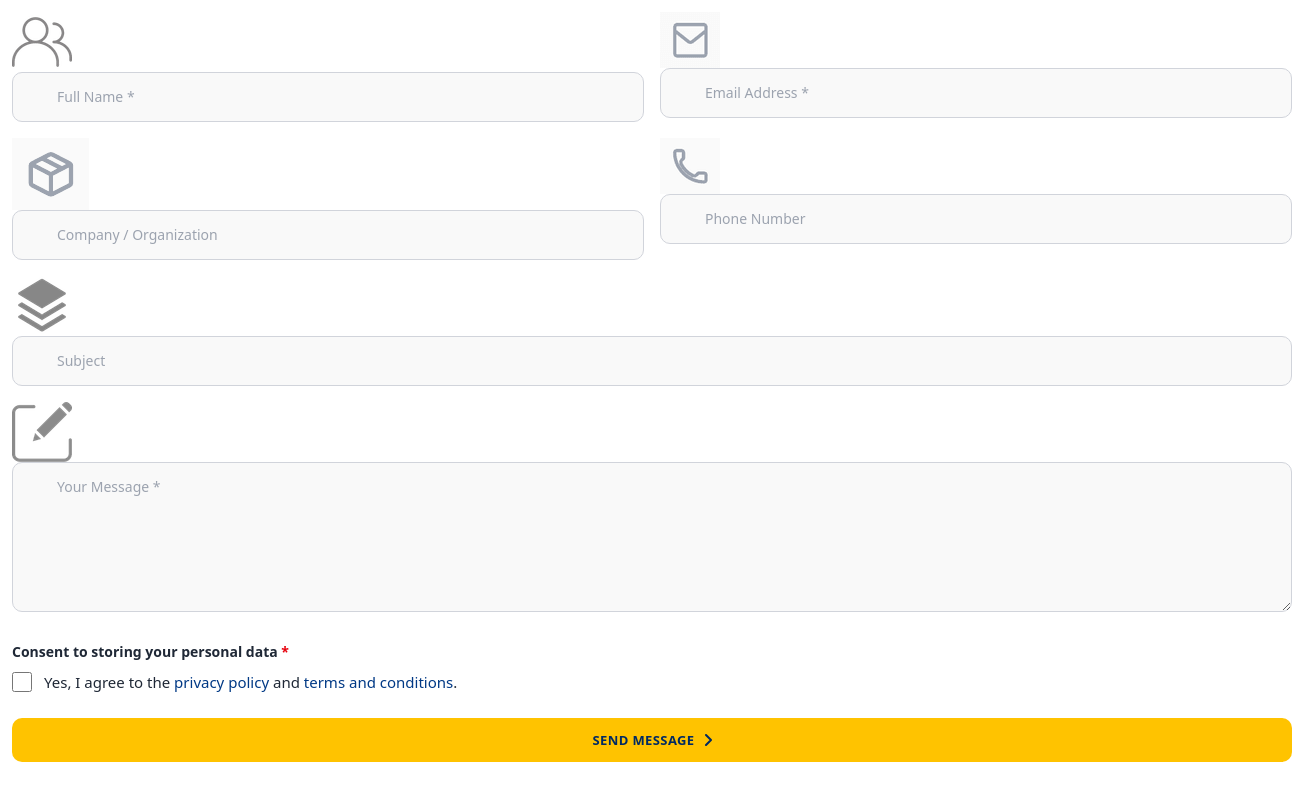
Test: ContactForm — client validation › rejects a malformed address with a different message than a missing one
This screenshot has width=1304, height=812.
Step 1. Type "Somchai Jaidee" into the field labelled "Full Name" → [328, 97], box [12,72,644,122]
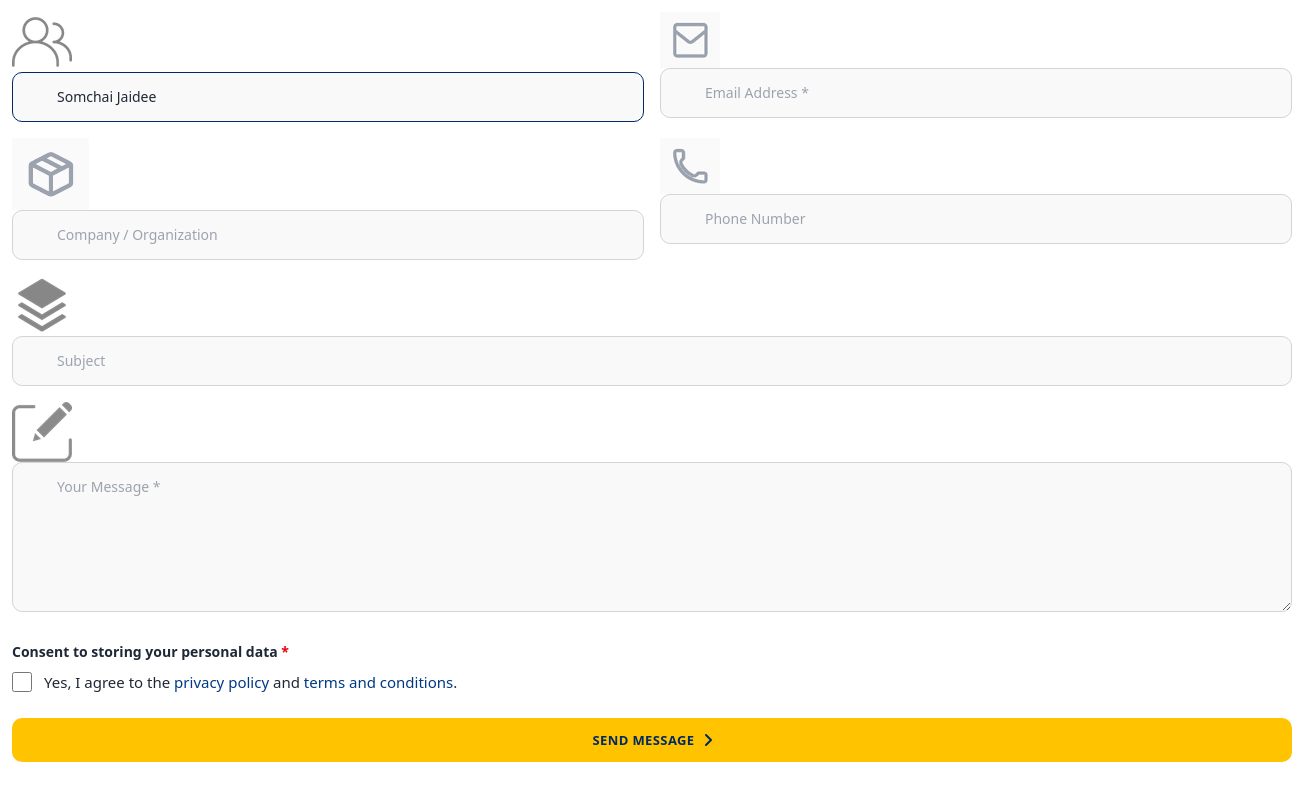
Step 2. Type "not-an-email" into the field labelled "Email Address" → [976, 93], box [660,68,1292,118]
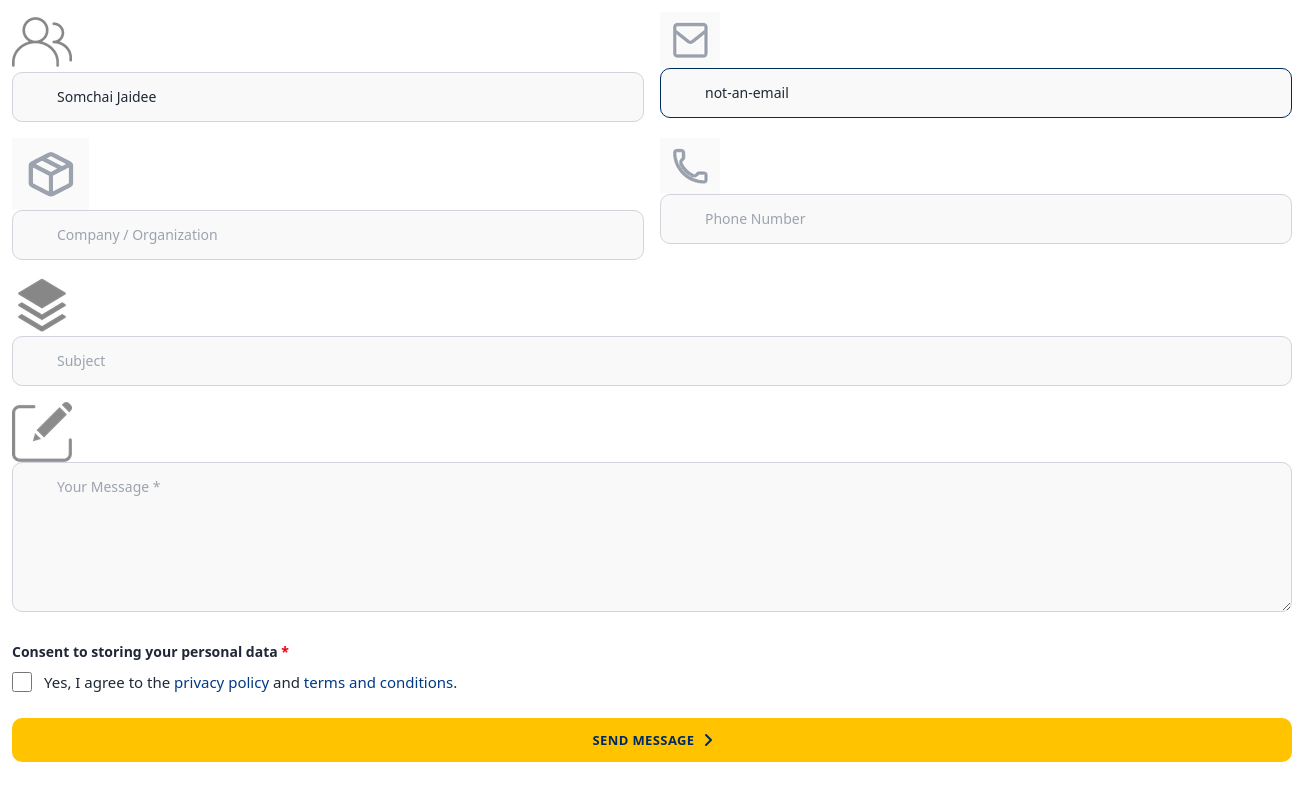
Step 3. Type "We would like a quote." into the text box labelled "Your Message" → [652, 537], box [12,462,1292,612]
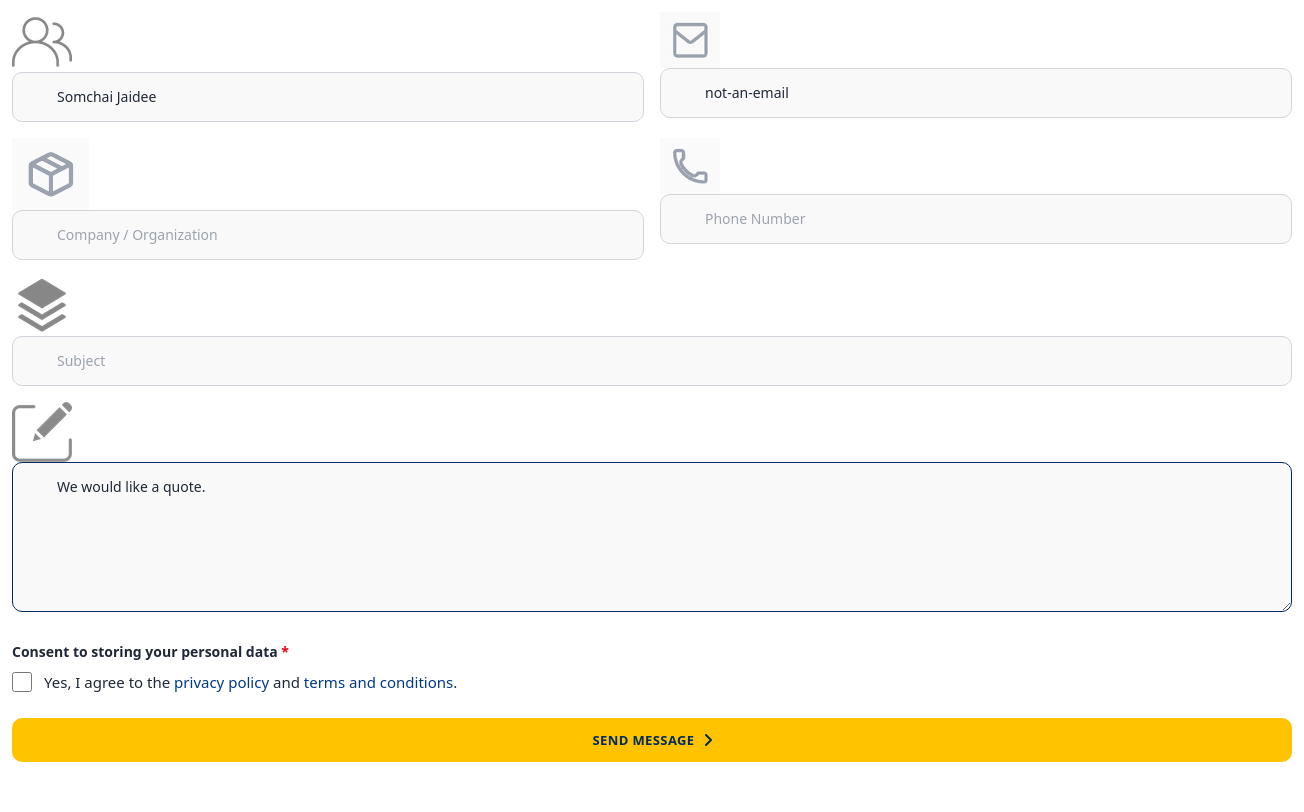
Step 4. Click the checkbox → [22, 682], box [12,672,32,692]
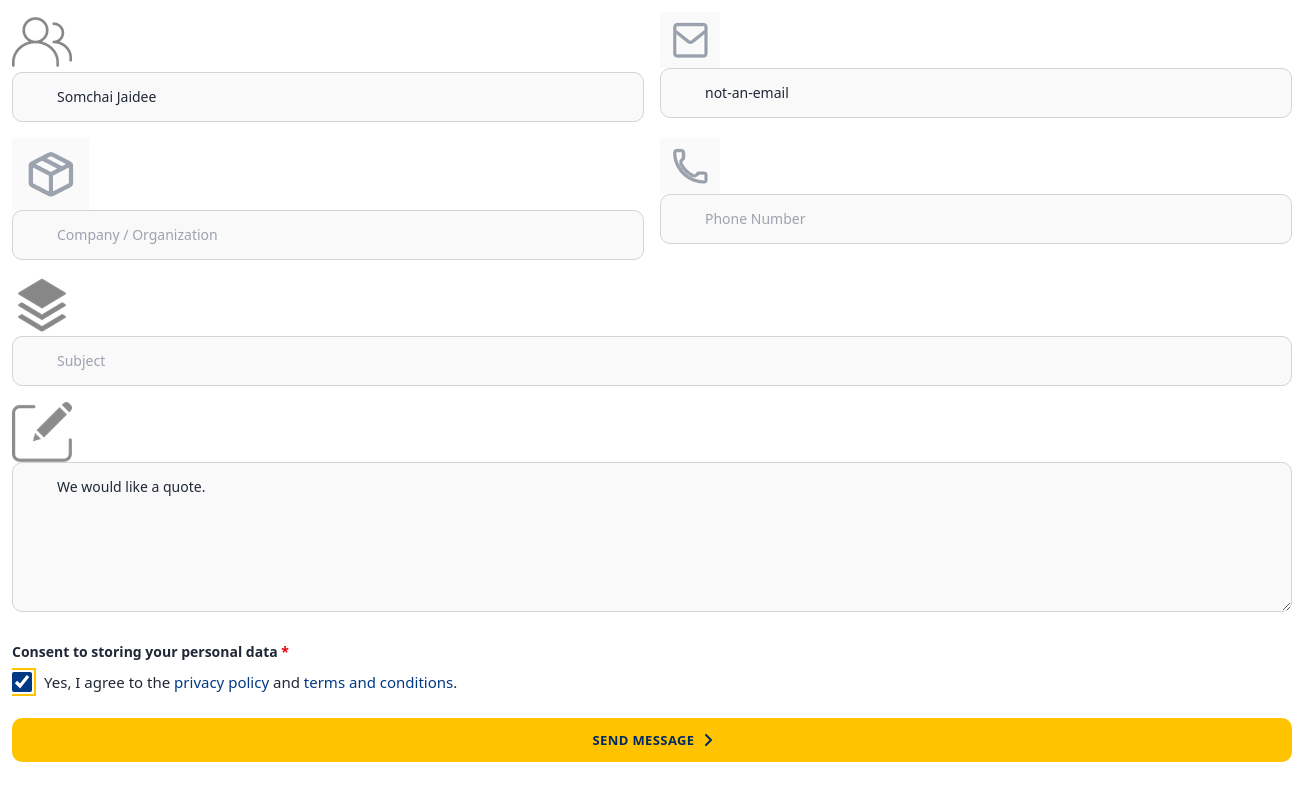
Step 5. Click the button "Send Message" → [652, 740], box [12,718,1292,762]
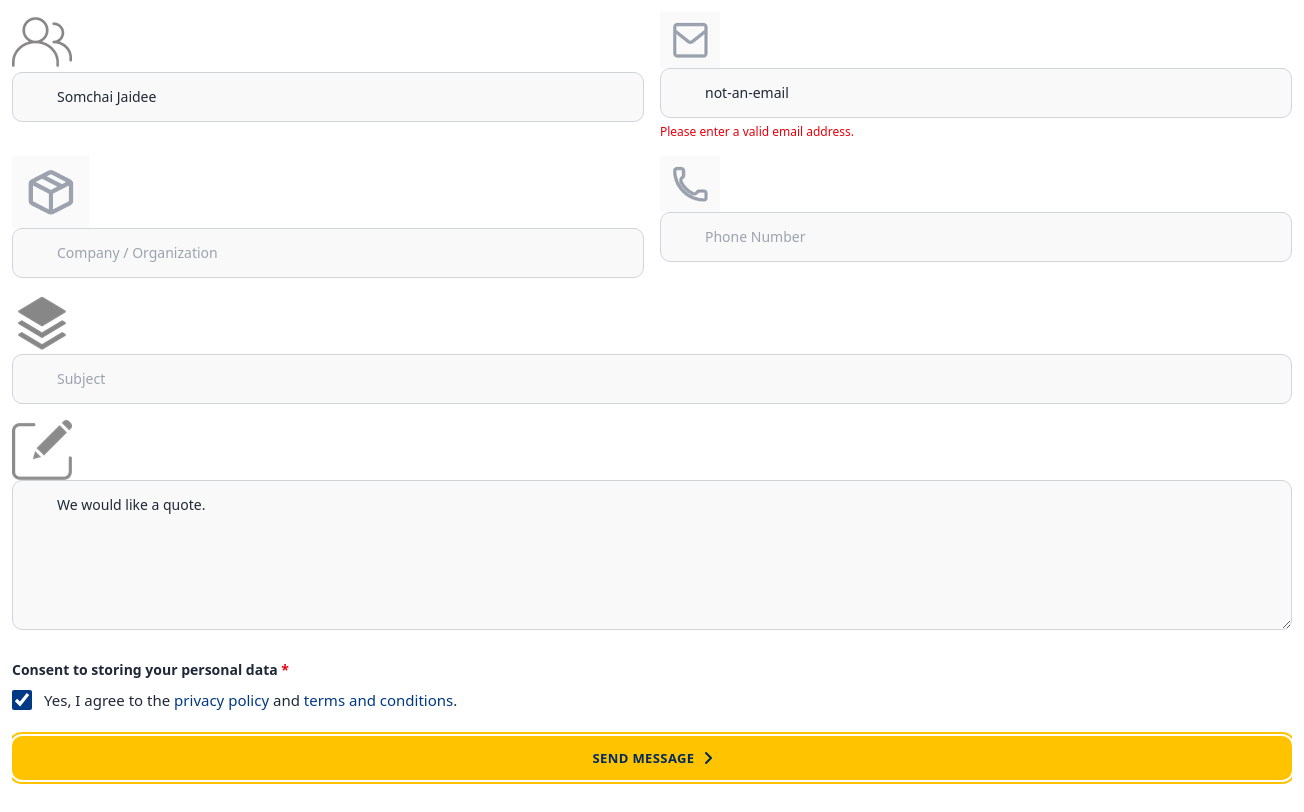
Expected: the text "Please enter a valid email address." is shown, [660,123,854,140]
